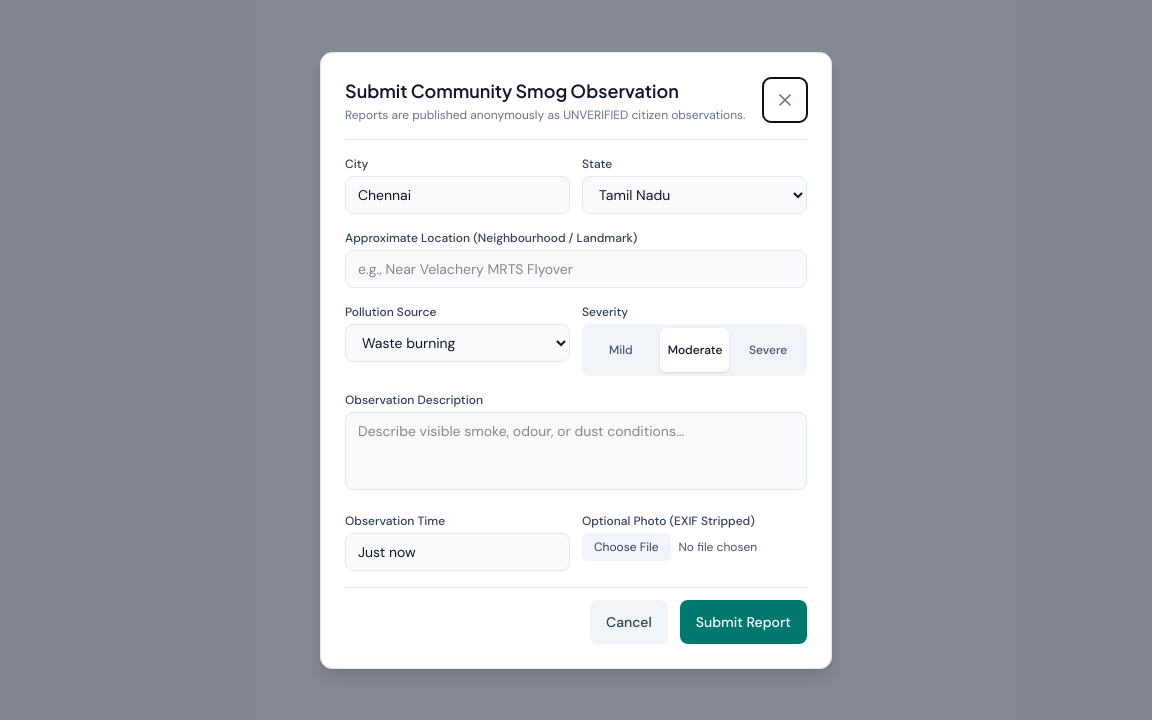
Test: ReportSmogModal submission and photo handling › keeps the form open and associates submission failures with fields
The width and height of the screenshot is (1152, 720).
Type "Guindy Industrial Estate" into the field labelled "Approximate Location (Neighbourhood / Landmark)" at x=576, y=268, box 345,250 -> 807,288
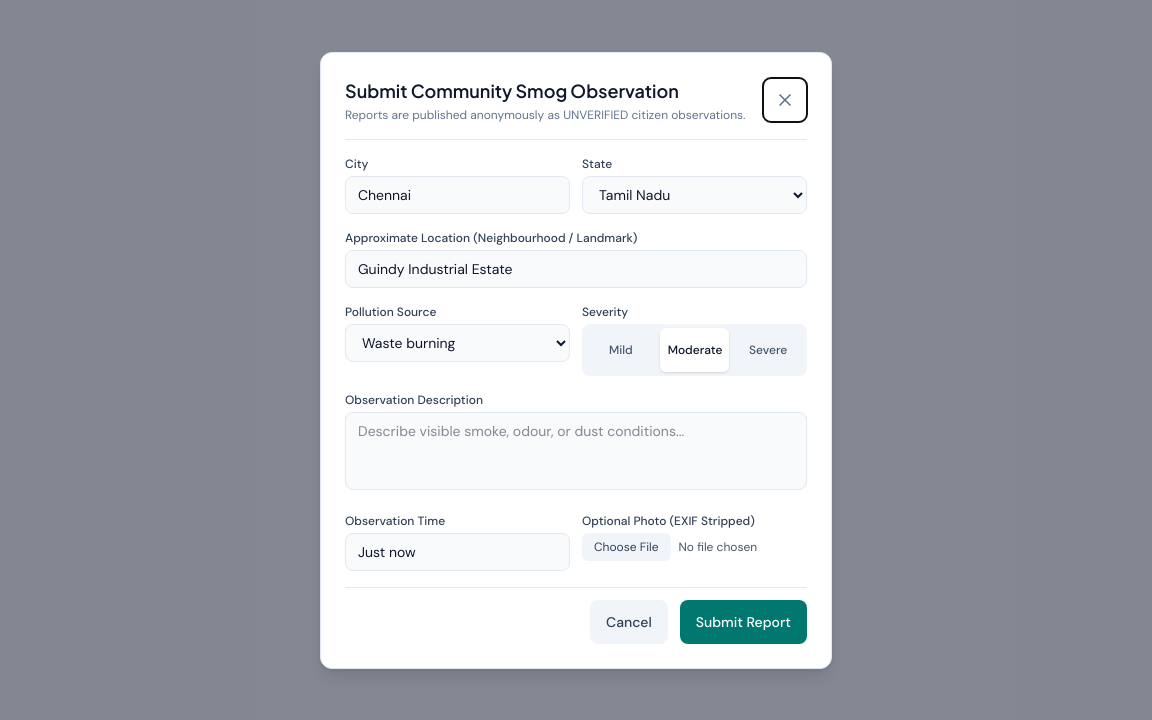
Type "Visible smoke from roadside burning." into the text box labelled "Observation Description" at x=576, y=450, box 345,412 -> 807,490
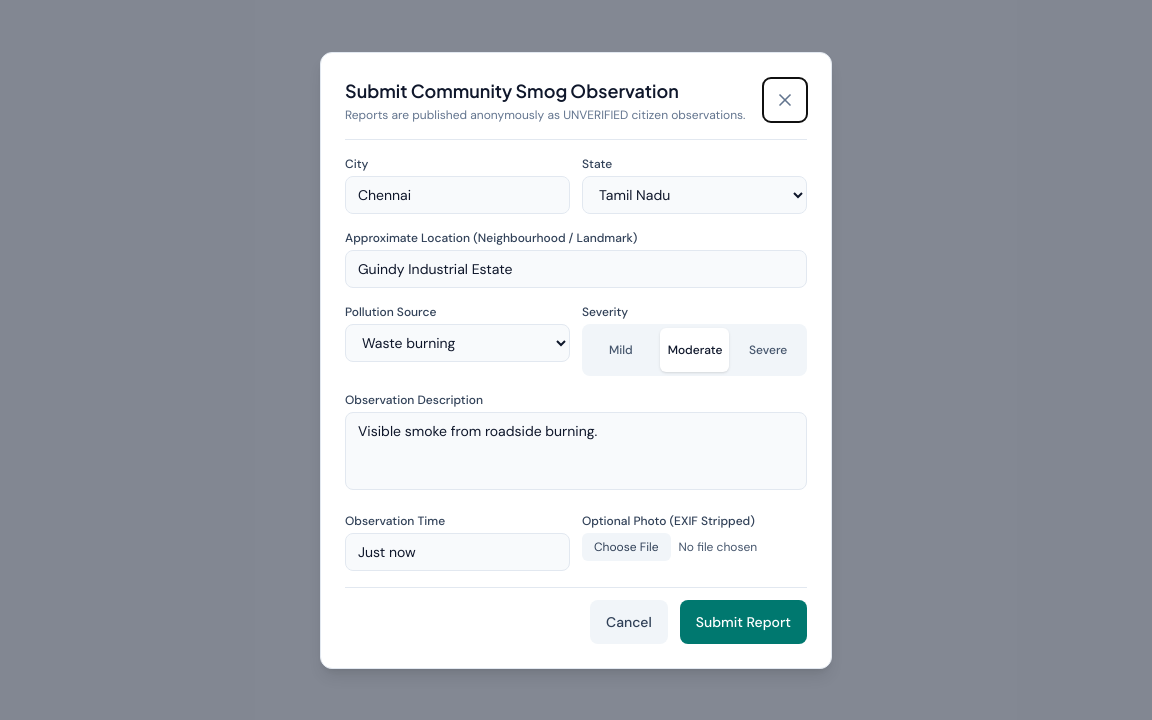
Click the button "Submit Report" at x=743, y=622, box 680,600 -> 807,644
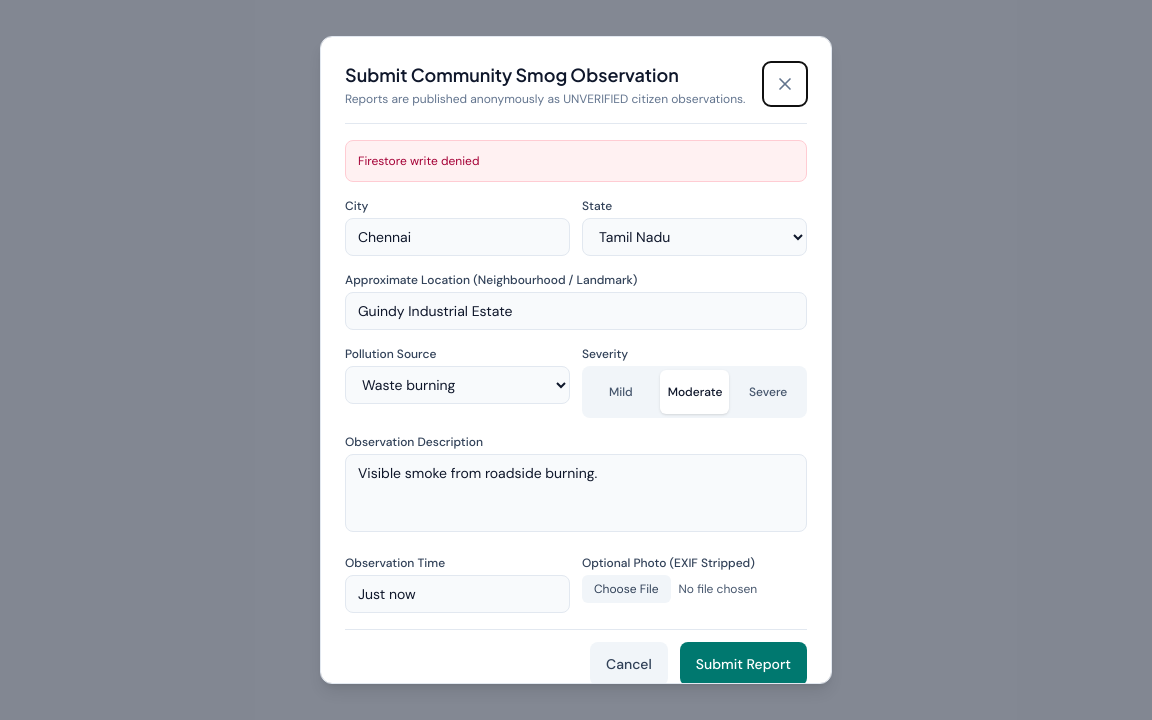
Expected: the button "Submit Report" is enabled, 680,642 -> 807,684
Now the message reads "Firestore write denied", box 358,153 -> 479,169
